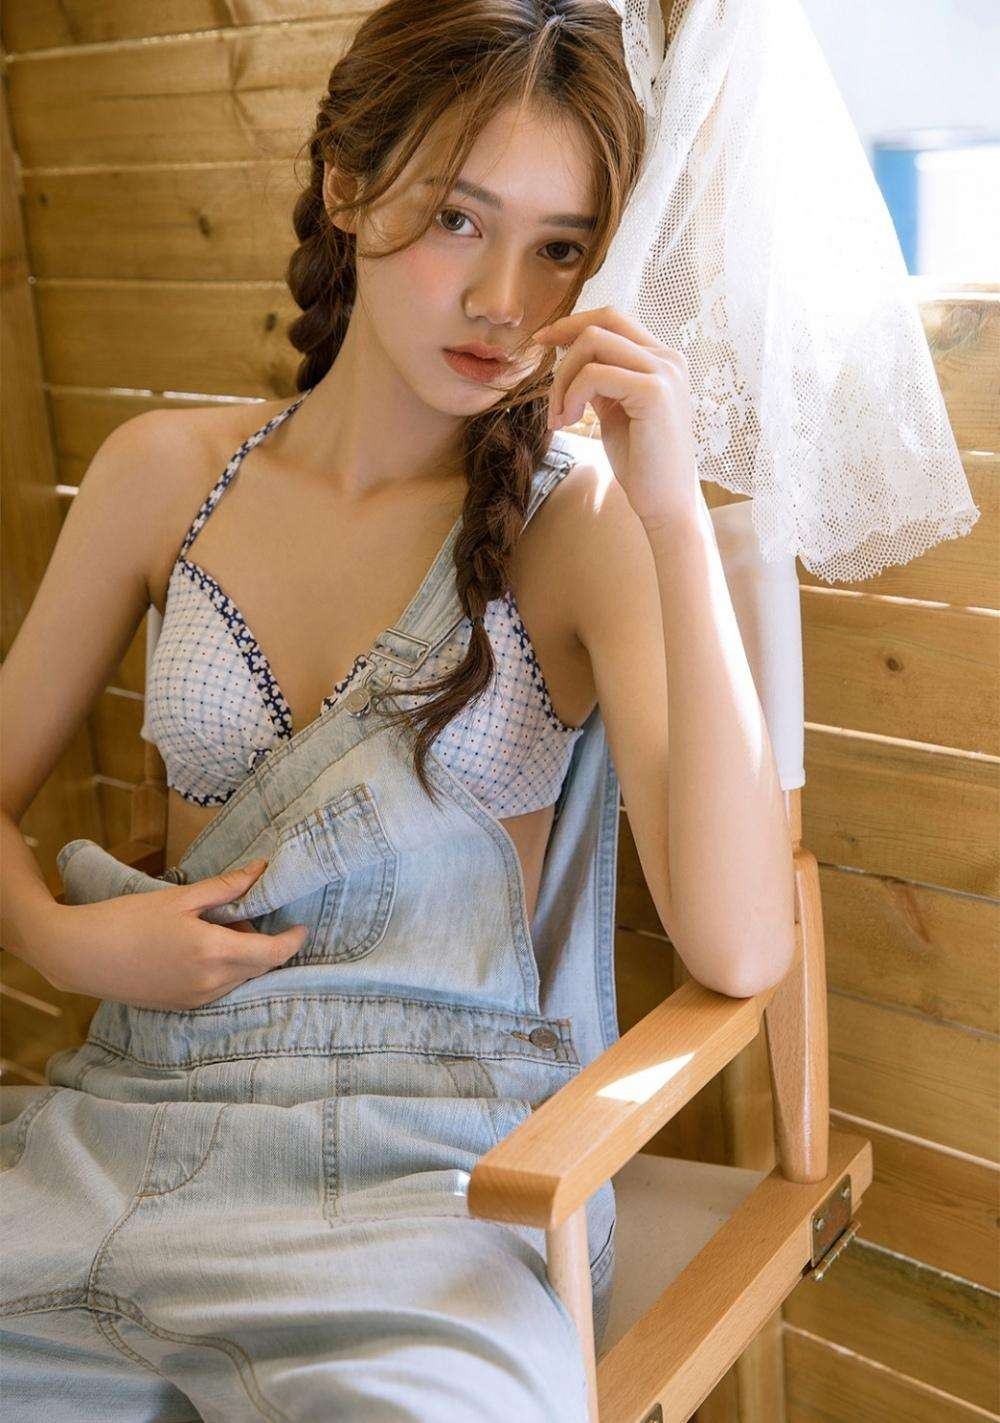person: (94, 46, 820, 1267)
